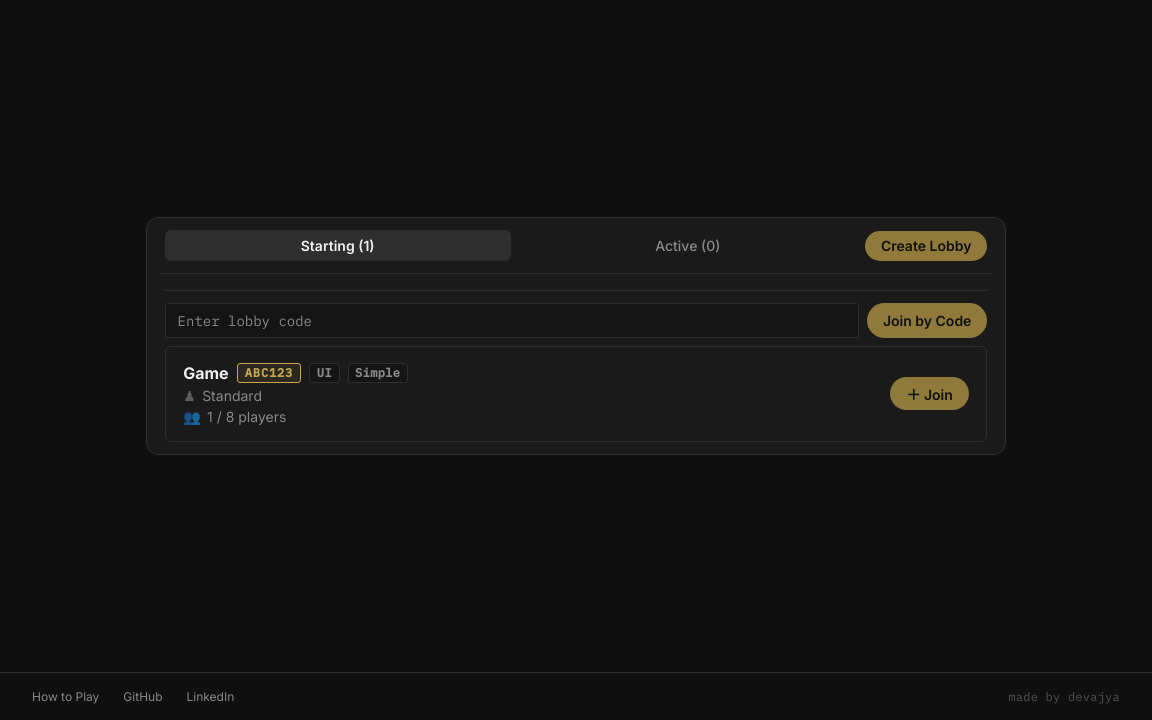
Test: LobbyBrowser — Active tab › Active tab shows empty state when no games in progress
Expected: the text "ABC123" is shown, [237,363,301,383]
Click the tab "Active (0)" at (688, 246), box [515,230,861,261]
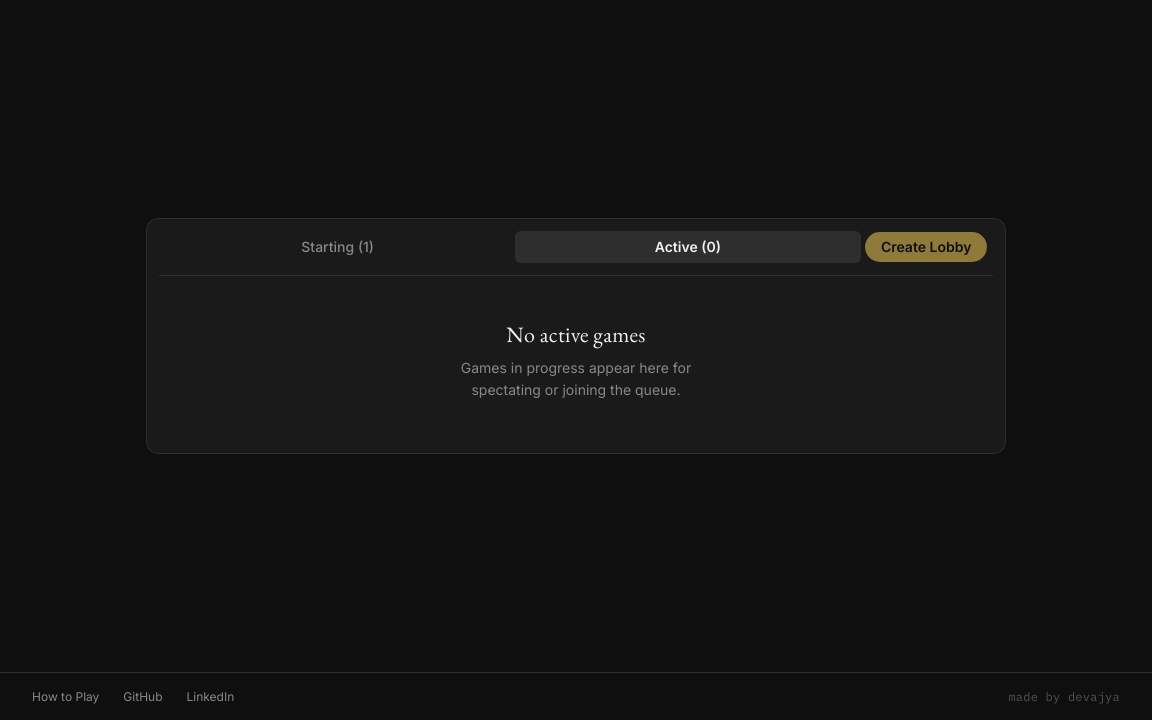
Expected: the text "No active games" is shown, [506,320,646,349]
